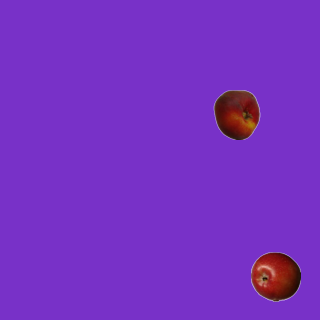Apple Braeburn: (250, 251, 300, 301)
Nectarine Flat: (211, 89, 261, 139)
